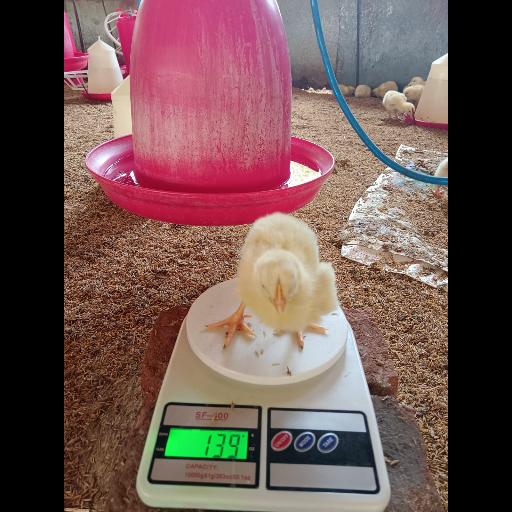chick: (205, 212, 340, 349)
